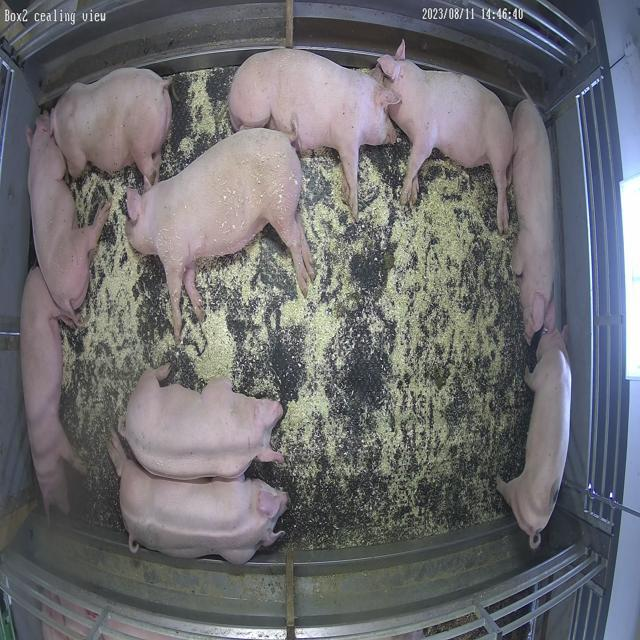Pig: (128, 128, 314, 340), (229, 48, 399, 218), (377, 40, 514, 232), (109, 434, 288, 566), (119, 366, 283, 481), (27, 115, 109, 325), (498, 330, 573, 550), (20, 268, 80, 514), (50, 67, 171, 184), (512, 98, 557, 340)
